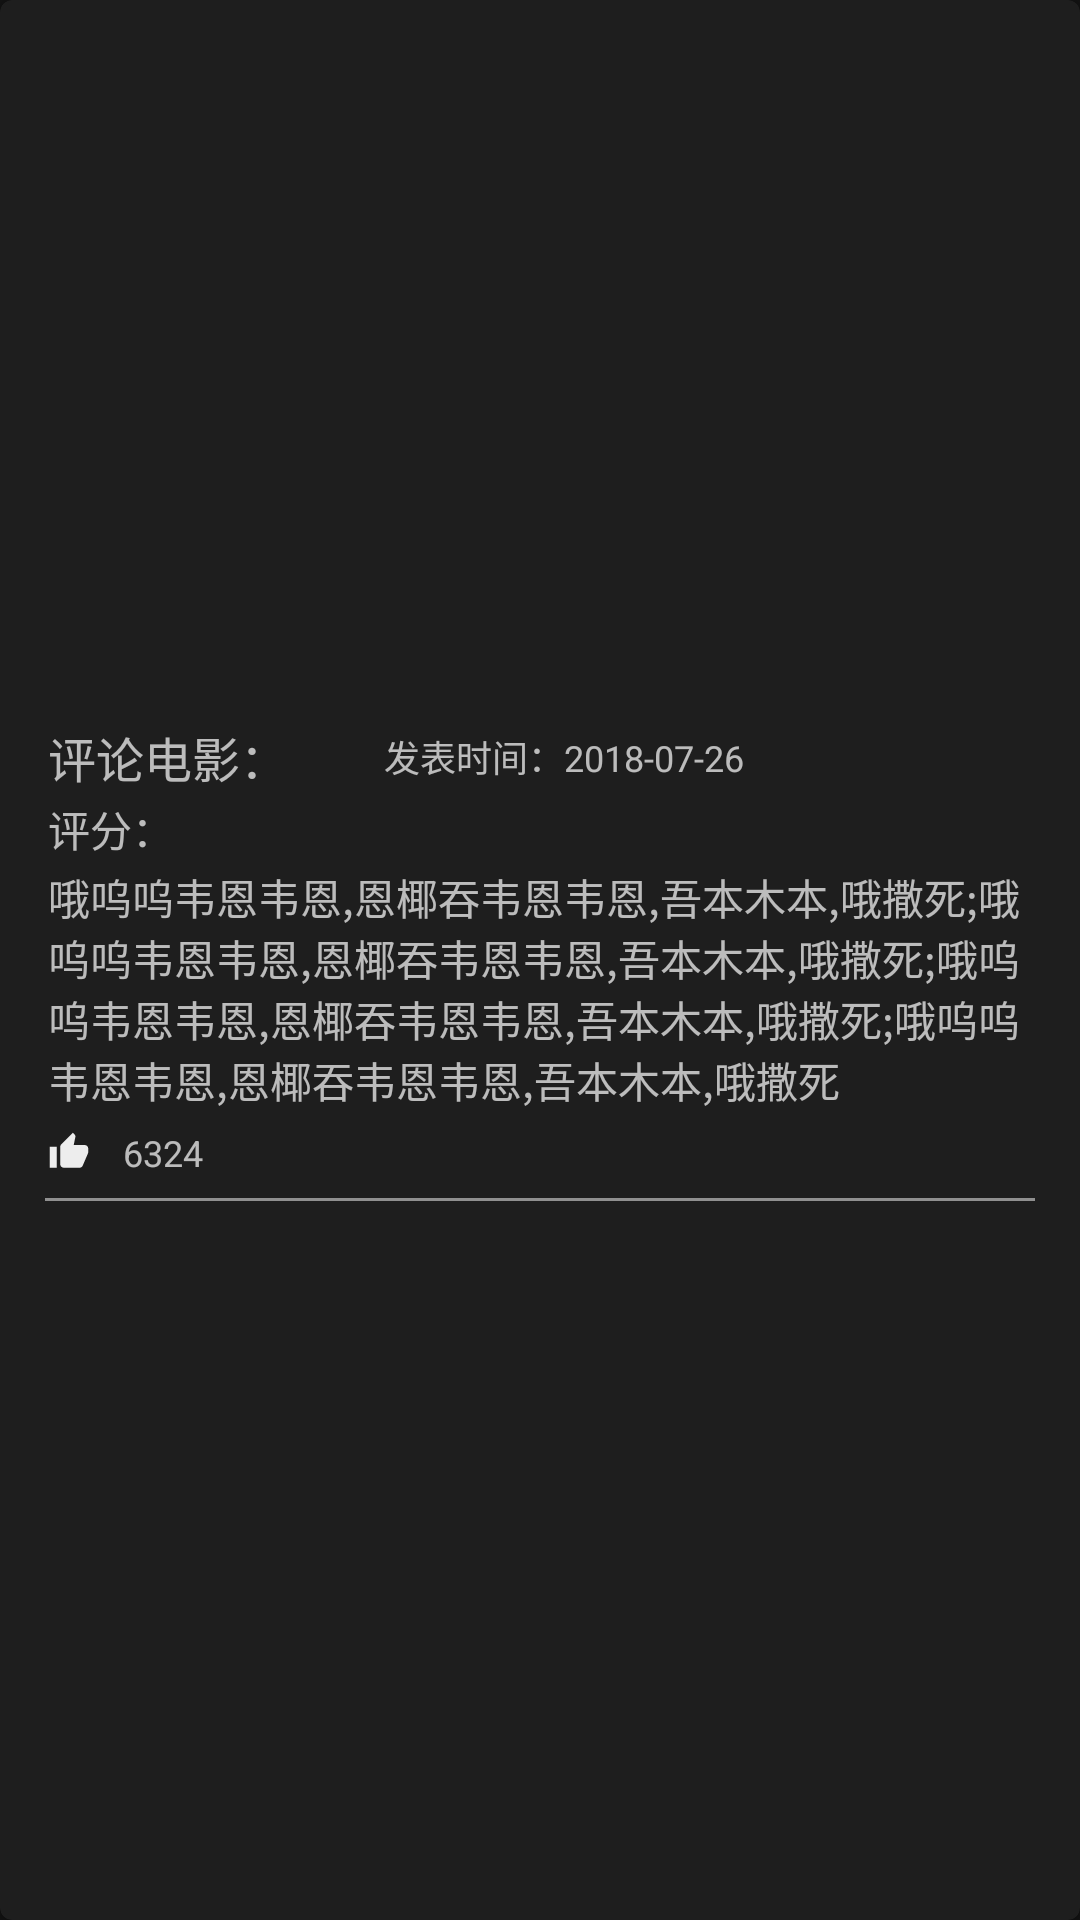

Point at icon controls on the screen. Image size 1080 x 1920, points as (x=x, y=y).
thumb up: (x=69, y=1150)
